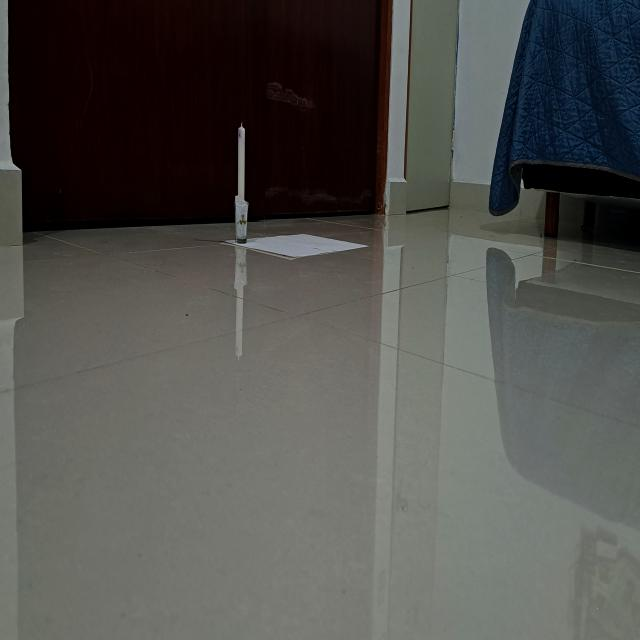candle: (233, 113, 255, 248)
